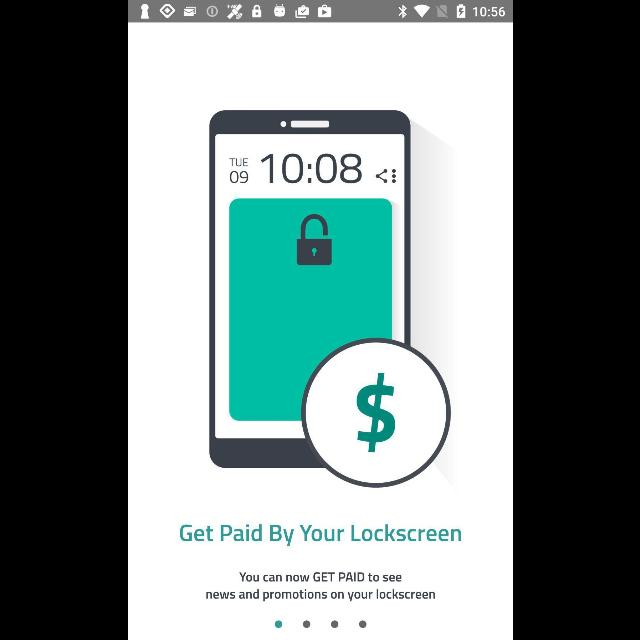image: (208, 110, 450, 488)
pageindicator: (274, 620, 366, 628)
text: (204, 570, 433, 602), (179, 523, 461, 547)
uppertaskbar: (128, 1, 512, 23)
